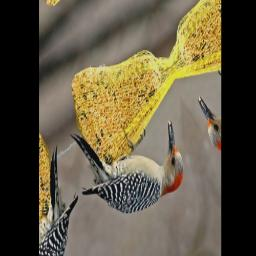Woodpecker: (65, 58, 198, 256)
